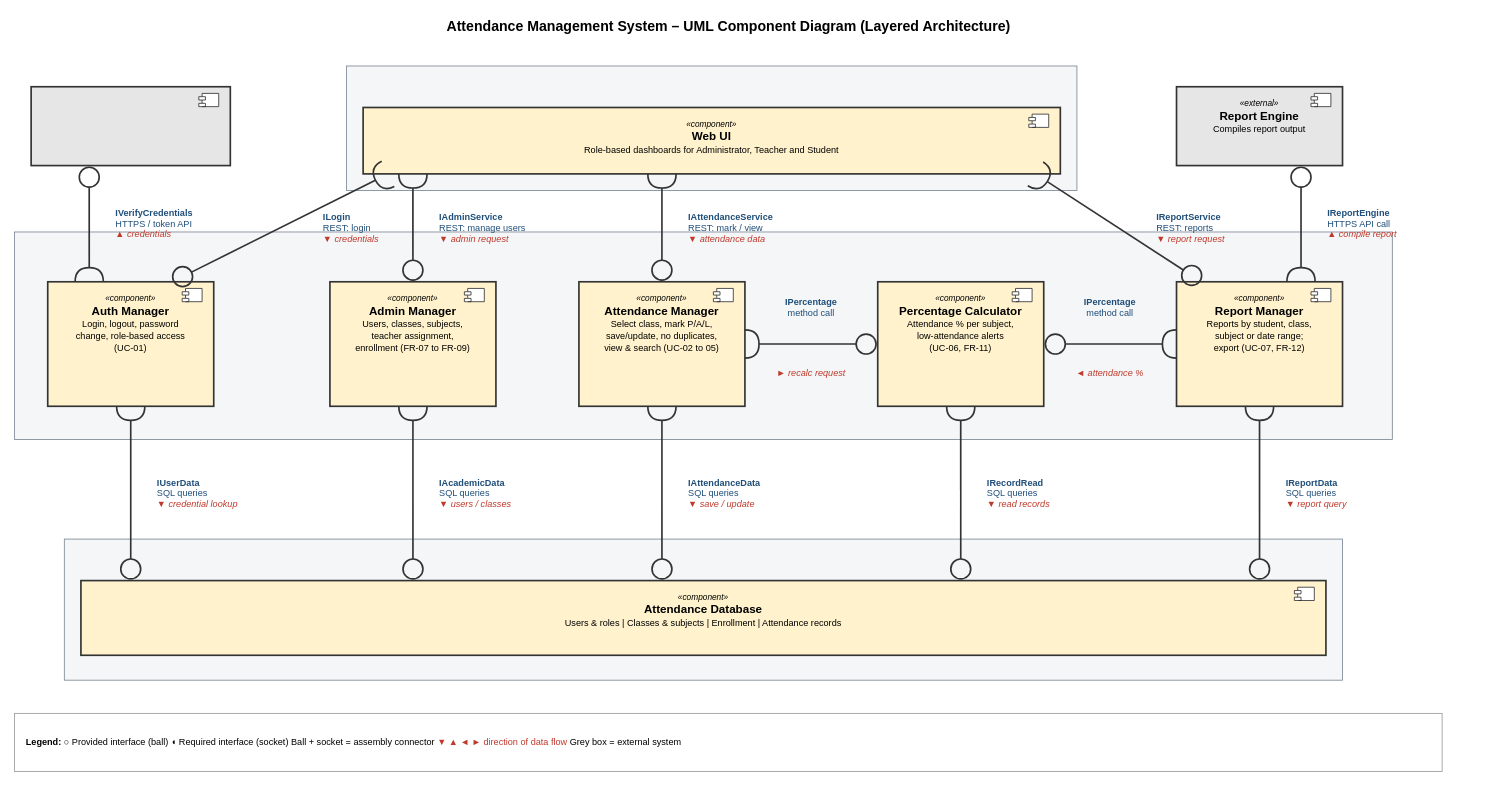
This 1498x786 diagram has some shape labels left out. The shapes that lost their labels are listed below. From the top down, each one's box as (x1, y1, x2, y2) in pixels, then its label:
(30, 85, 231, 166): «external» Security / Auth Service Verifies credentials
(346, 65, 1077, 190): Presentation Layer
(14, 231, 1392, 439): Business Layer
(63, 538, 1343, 680): Data Layer
